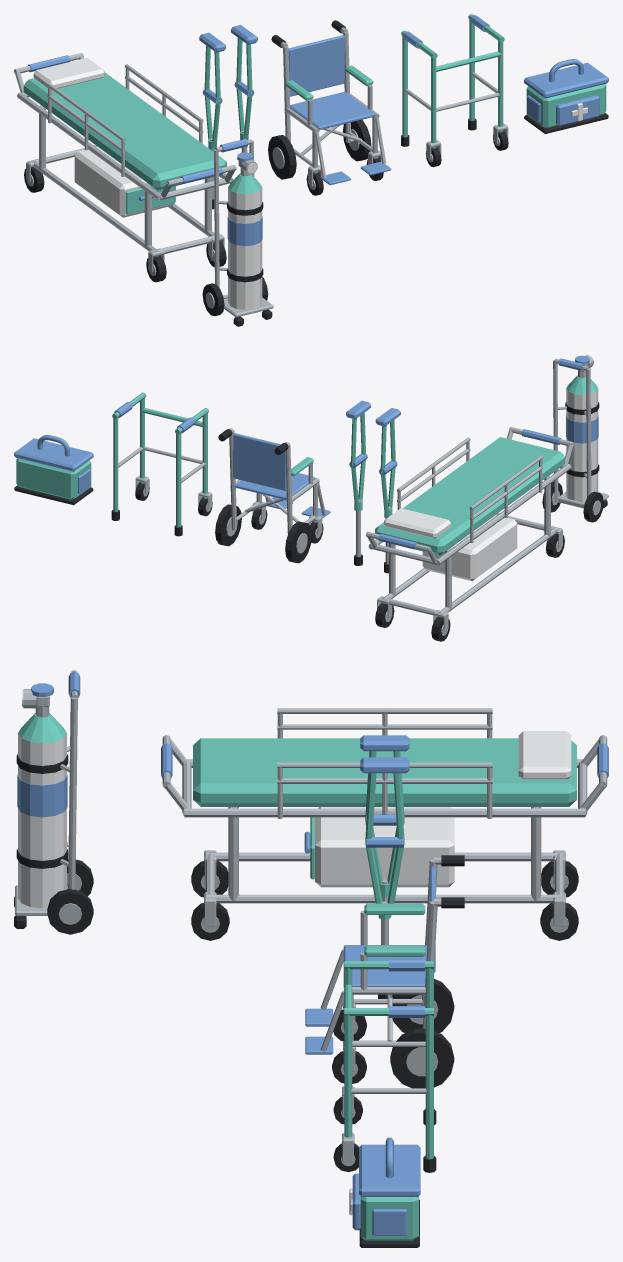
The model's file is hospital-equipment-set.glb.
3 views of the same model, one above another, from view 1: azimuth 30°, elevation 25°; view 2: azimuth 150°, elevation 25°; view 3: azimuth 270°, elevation 25° (orthographic). The views are drawn at different scales.
Parts seen in each view (by area): view 1: Stretcher_Body, TransportChair_Body, OxygenTrolley_Body, WalkingFrame_Body, FirstAidBag_Body, Lid, Crutch_L, Crutch_R, SideRail_L, SideRail_R, Wheel_RearL, Pocket (+5 smaller); view 2: Stretcher_Body, TransportChair_Body, OxygenTrolley_Body, WalkingFrame_Body, FirstAidBag_Body, Lid, Crutch_R, Crutch_L, SideRail_L, SideRail_R, Wheel_RearL, Wheel_RearR (+1 smaller); view 3: Stretcher_Body, OxygenTrolley_Body, TransportChair_Body, WalkingFrame_Body, Crutch_R, Lid, FirstAidBag_Body, SideRail_R, SideRail_L, Wheel_RearR, Crutch_L, Wheel_R.001 (+7 smaller).
Boxes of the visible parts, x1,y1,x2,y2 form: Stretcher_Body: (14,53,236,271); TransportChair_Body: (271,20,381,186); OxygenTrolley_Body: (214,139,273,326); WalkingFrame_Body: (401,14,508,159); FirstAidBag_Body: (524,84,608,133); Lid: (524,59,608,98); Crutch_L: (199,32,225,209); Crutch_R: (231,25,257,152); SideRail_L: (47,83,125,176); SideRail_R: (124,64,203,143); Wheel_RearL: (268,135,296,179); Pocket: (556,95,599,126); Stretcher_Body: (366,427,574,631); TransportChair_Body: (218,428,322,534); OxygenTrolley_Body: (553,355,608,508); WalkingFrame_Body: (111,392,212,536); FirstAidBag_Body: (14,458,93,505); Lid: (14,435,93,471); Crutch_R: (346,400,370,565); Crutch_L: (375,408,400,573); SideRail_L: (469,455,543,542); SideRail_R: (397,437,470,509); Wheel_RearL: (285,521,311,563); Wheel_RearR: (215,504,241,546); Stretcher_Body: (161,731,608,926); OxygenTrolley_Body: (14,670,80,928); TransportChair_Body: (343,855,464,1071); WalkingFrame_Body: (342,959,436,1172); Crutch_R: (360,757,409,998); Lid: (359,1137,420,1196); FirstAidBag_Body: (359,1196,419,1247); SideRail_R: (277,762,492,818); SideRail_L: (277,708,492,738); Wheel_RearR: (390,1028,454,1088); Crutch_L: (360,735,409,901); Wheel_R.001: (47,889,93,934).
Bounding box in the file's own units: 14.66 × 4.56 × 10.22.
